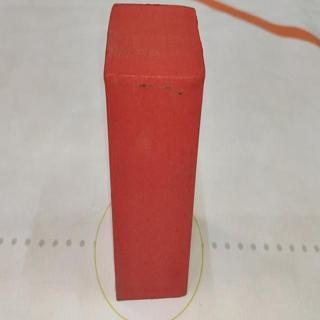redbox: (106, 3, 190, 298)
